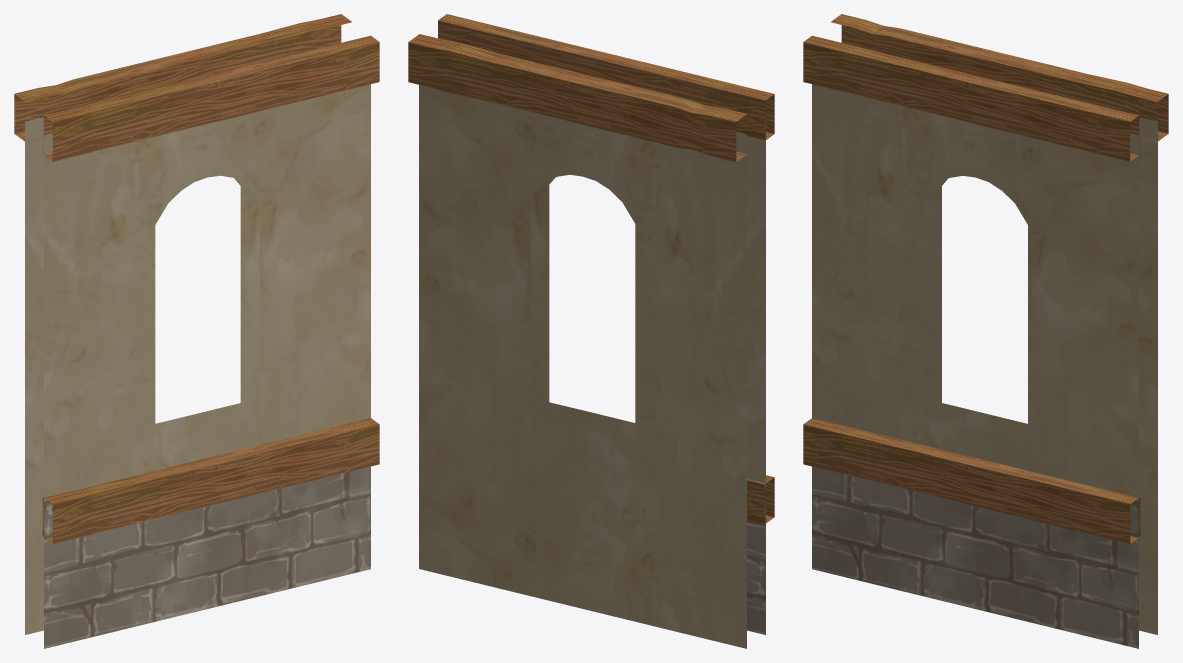
File: Wall_Plaster_Window_Thin_Round.glb
3 renders of one model, left to right at view 1: azimuth 30°, elevation 25°; view 2: azimuth 150°, elevation 25°; view 3: azimuth 330°, elevation 25°, orthographic.
Visible parts, largest first — view 1: Wall_Plaster_Window_Thin_Round; view 2: Wall_Plaster_Window_Thin_Round; view 3: Wall_Plaster_Window_Thin_Round.
Boxes of the visible parts, left/top/right/bottom form: Wall_Plaster_Window_Thin_Round: left=14, top=14, right=379, bottom=648; Wall_Plaster_Window_Thin_Round: left=408, top=14, right=774, bottom=648; Wall_Plaster_Window_Thin_Round: left=803, top=14, right=1168, bottom=648.
Bounding box in the file's own units: 2 × 3.12 × 0.4064.
Materials: 3 (3 with a texture image).
